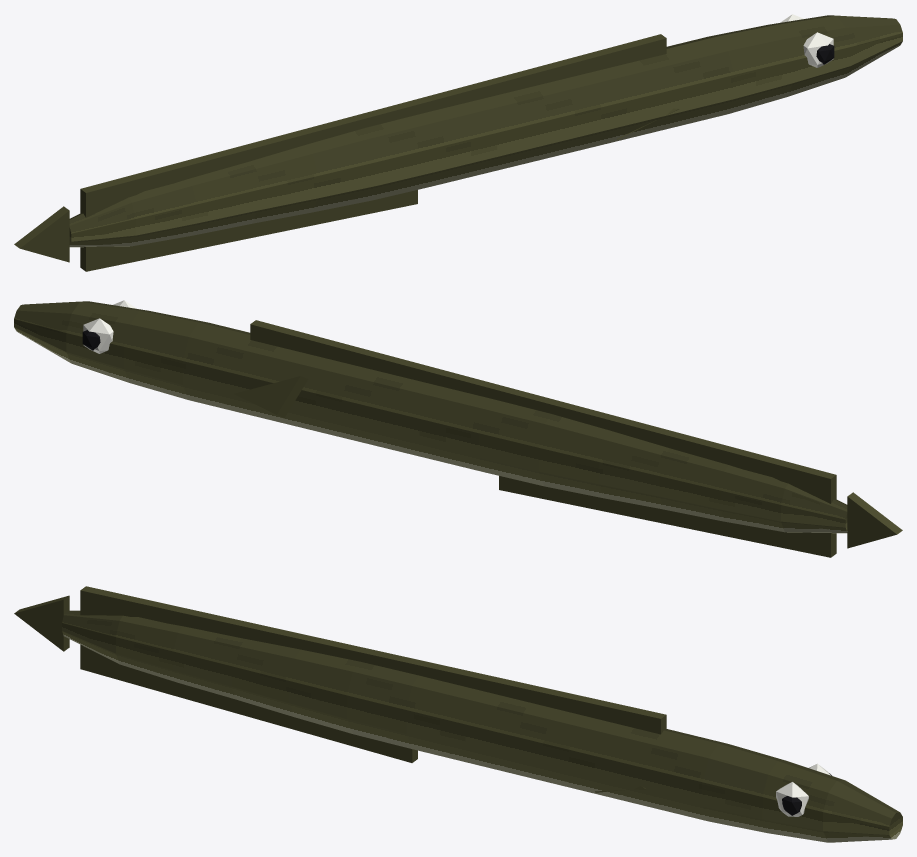
Rendered from longfin_eel.glb.
3 views of the same model, one above another, from view 1: azimuth 30°, elevation 25°; view 2: azimuth 150°, elevation 25°; view 3: azimuth 330°, elevation 25° (orthographic).
Parts seen in each view (by area): view 1: fish_longfin_eel; view 2: fish_longfin_eel; view 3: fish_longfin_eel.
Part boxes in pixels (x1,y1,x2,y2): fish_longfin_eel: (14,14,902,271); fish_longfin_eel: (14,300,902,557); fish_longfin_eel: (14,586,902,842).
Bounding box in the file's own units: 1.06 × 0.121 × 0.1047.
4 materials, 1 textured.
